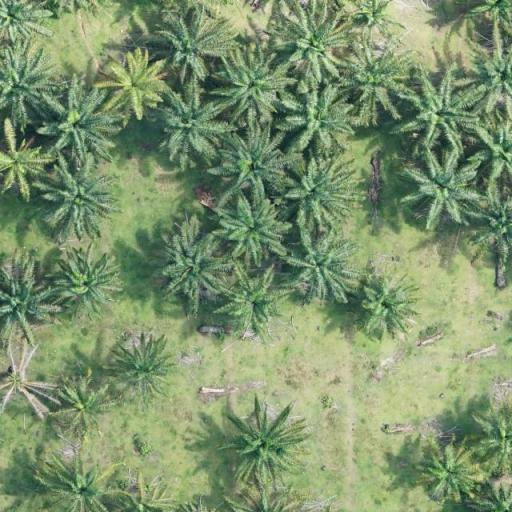Ganoderma: (108, 58, 160, 110), (61, 384, 103, 425), (3, 139, 40, 185), (4, 354, 36, 406)
